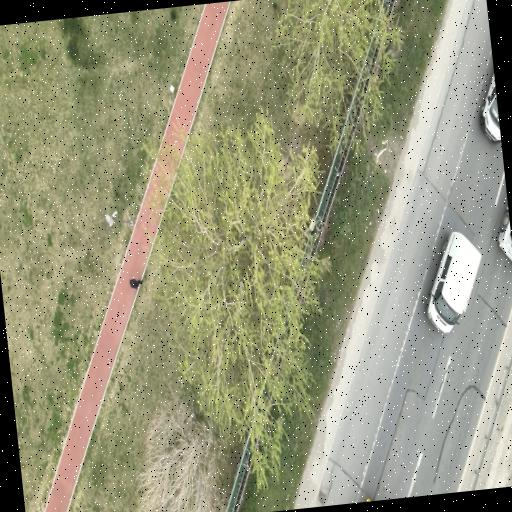car: (425, 231, 480, 332), (479, 73, 500, 141), (498, 207, 511, 259)
person: (129, 278, 140, 288)
